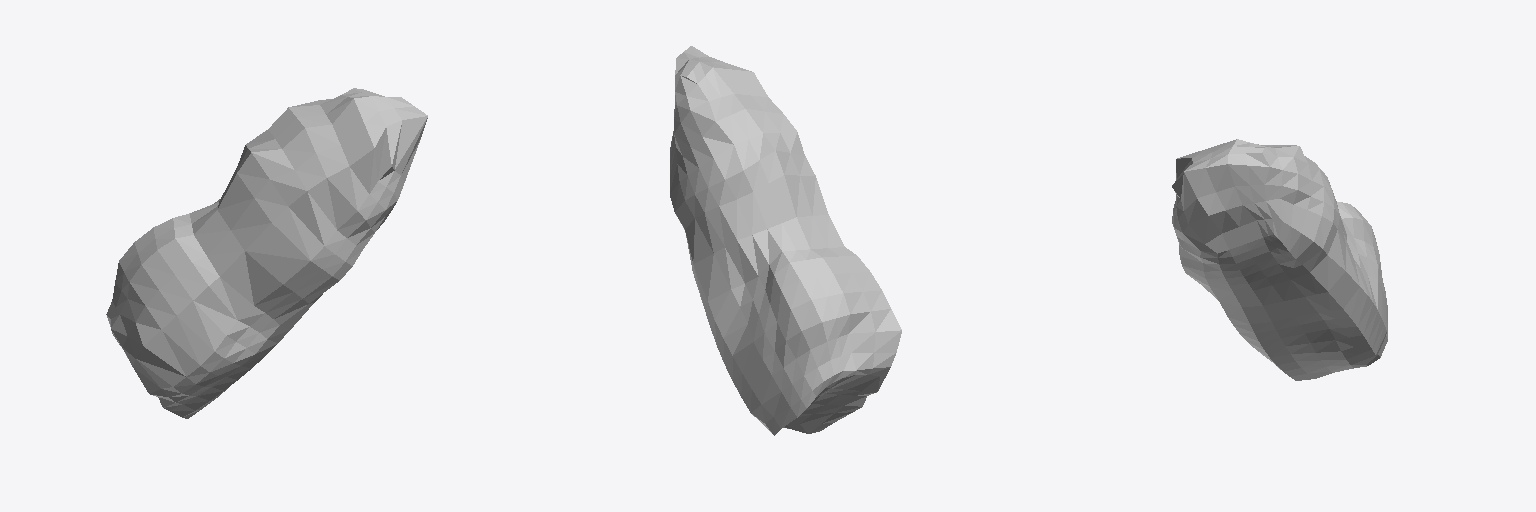
The model's file is env_level1_Canyon_Rock26.obj.
The picture shows the model from 3 angles: view 1: azimuth 30°, elevation 25°; view 2: azimuth 150°, elevation 25°; view 3: azimuth 270°, elevation 25°; orthographic projection.
Parts seen in each view (by area): view 1: polySurface11; view 2: polySurface11; view 3: polySurface11.
Boxes of the visible parts, <box> form: polySurface11: <box>106,88,427,418</box>; polySurface11: <box>670,46,901,435</box>; polySurface11: <box>1172,139,1387,380</box>.
Bounding box in the file's own units: 3334 × 3959 × 2515.